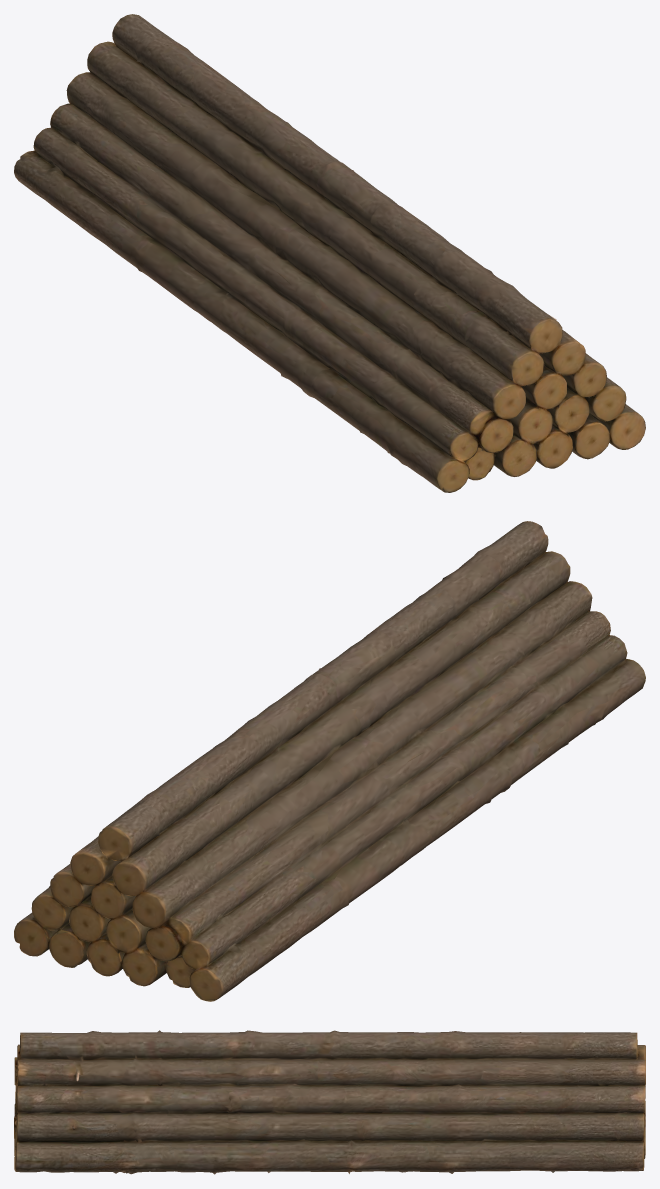
Rendered from prop_logs.glb.
3 views of the same model, one above another, from view 1: azimuth 30°, elevation 25°; view 2: azimuth 150°, elevation 25°; view 3: azimuth 270°, elevation 25° (orthographic). The views are drawn at different scales.
Parts seen in each view (by area): view 1: tripo_node_02a32fe1-e637-43c1-a538-3907cf7e6513; view 2: tripo_node_02a32fe1-e637-43c1-a538-3907cf7e6513; view 3: tripo_node_02a32fe1-e637-43c1-a538-3907cf7e6513.
Boxes of the visible parts, x1,y1,x2,y2 form: tripo_node_02a32fe1-e637-43c1-a538-3907cf7e6513: [14, 14, 645, 492]; tripo_node_02a32fe1-e637-43c1-a538-3907cf7e6513: [14, 521, 645, 1001]; tripo_node_02a32fe1-e637-43c1-a538-3907cf7e6513: [14, 1030, 645, 1174].
Size of the model in its own units: 0.2848 by 0.1994 by 1.
1 material, 1 textured.
